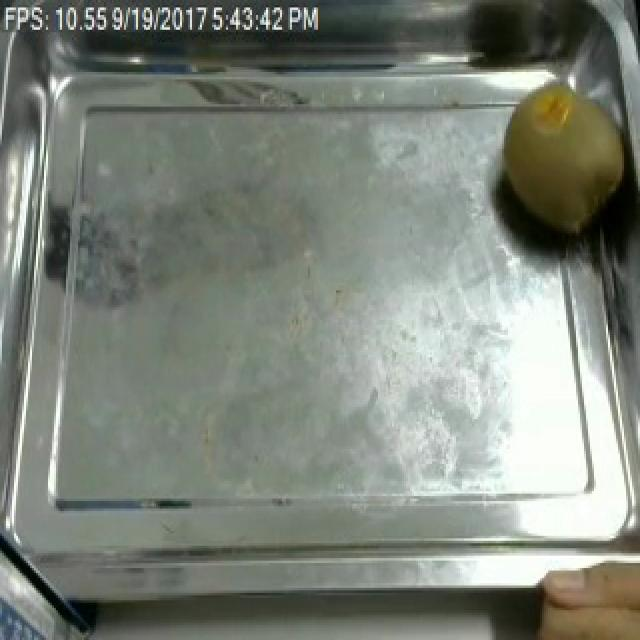Fruit: (492, 70, 632, 246), (524, 545, 640, 640)
